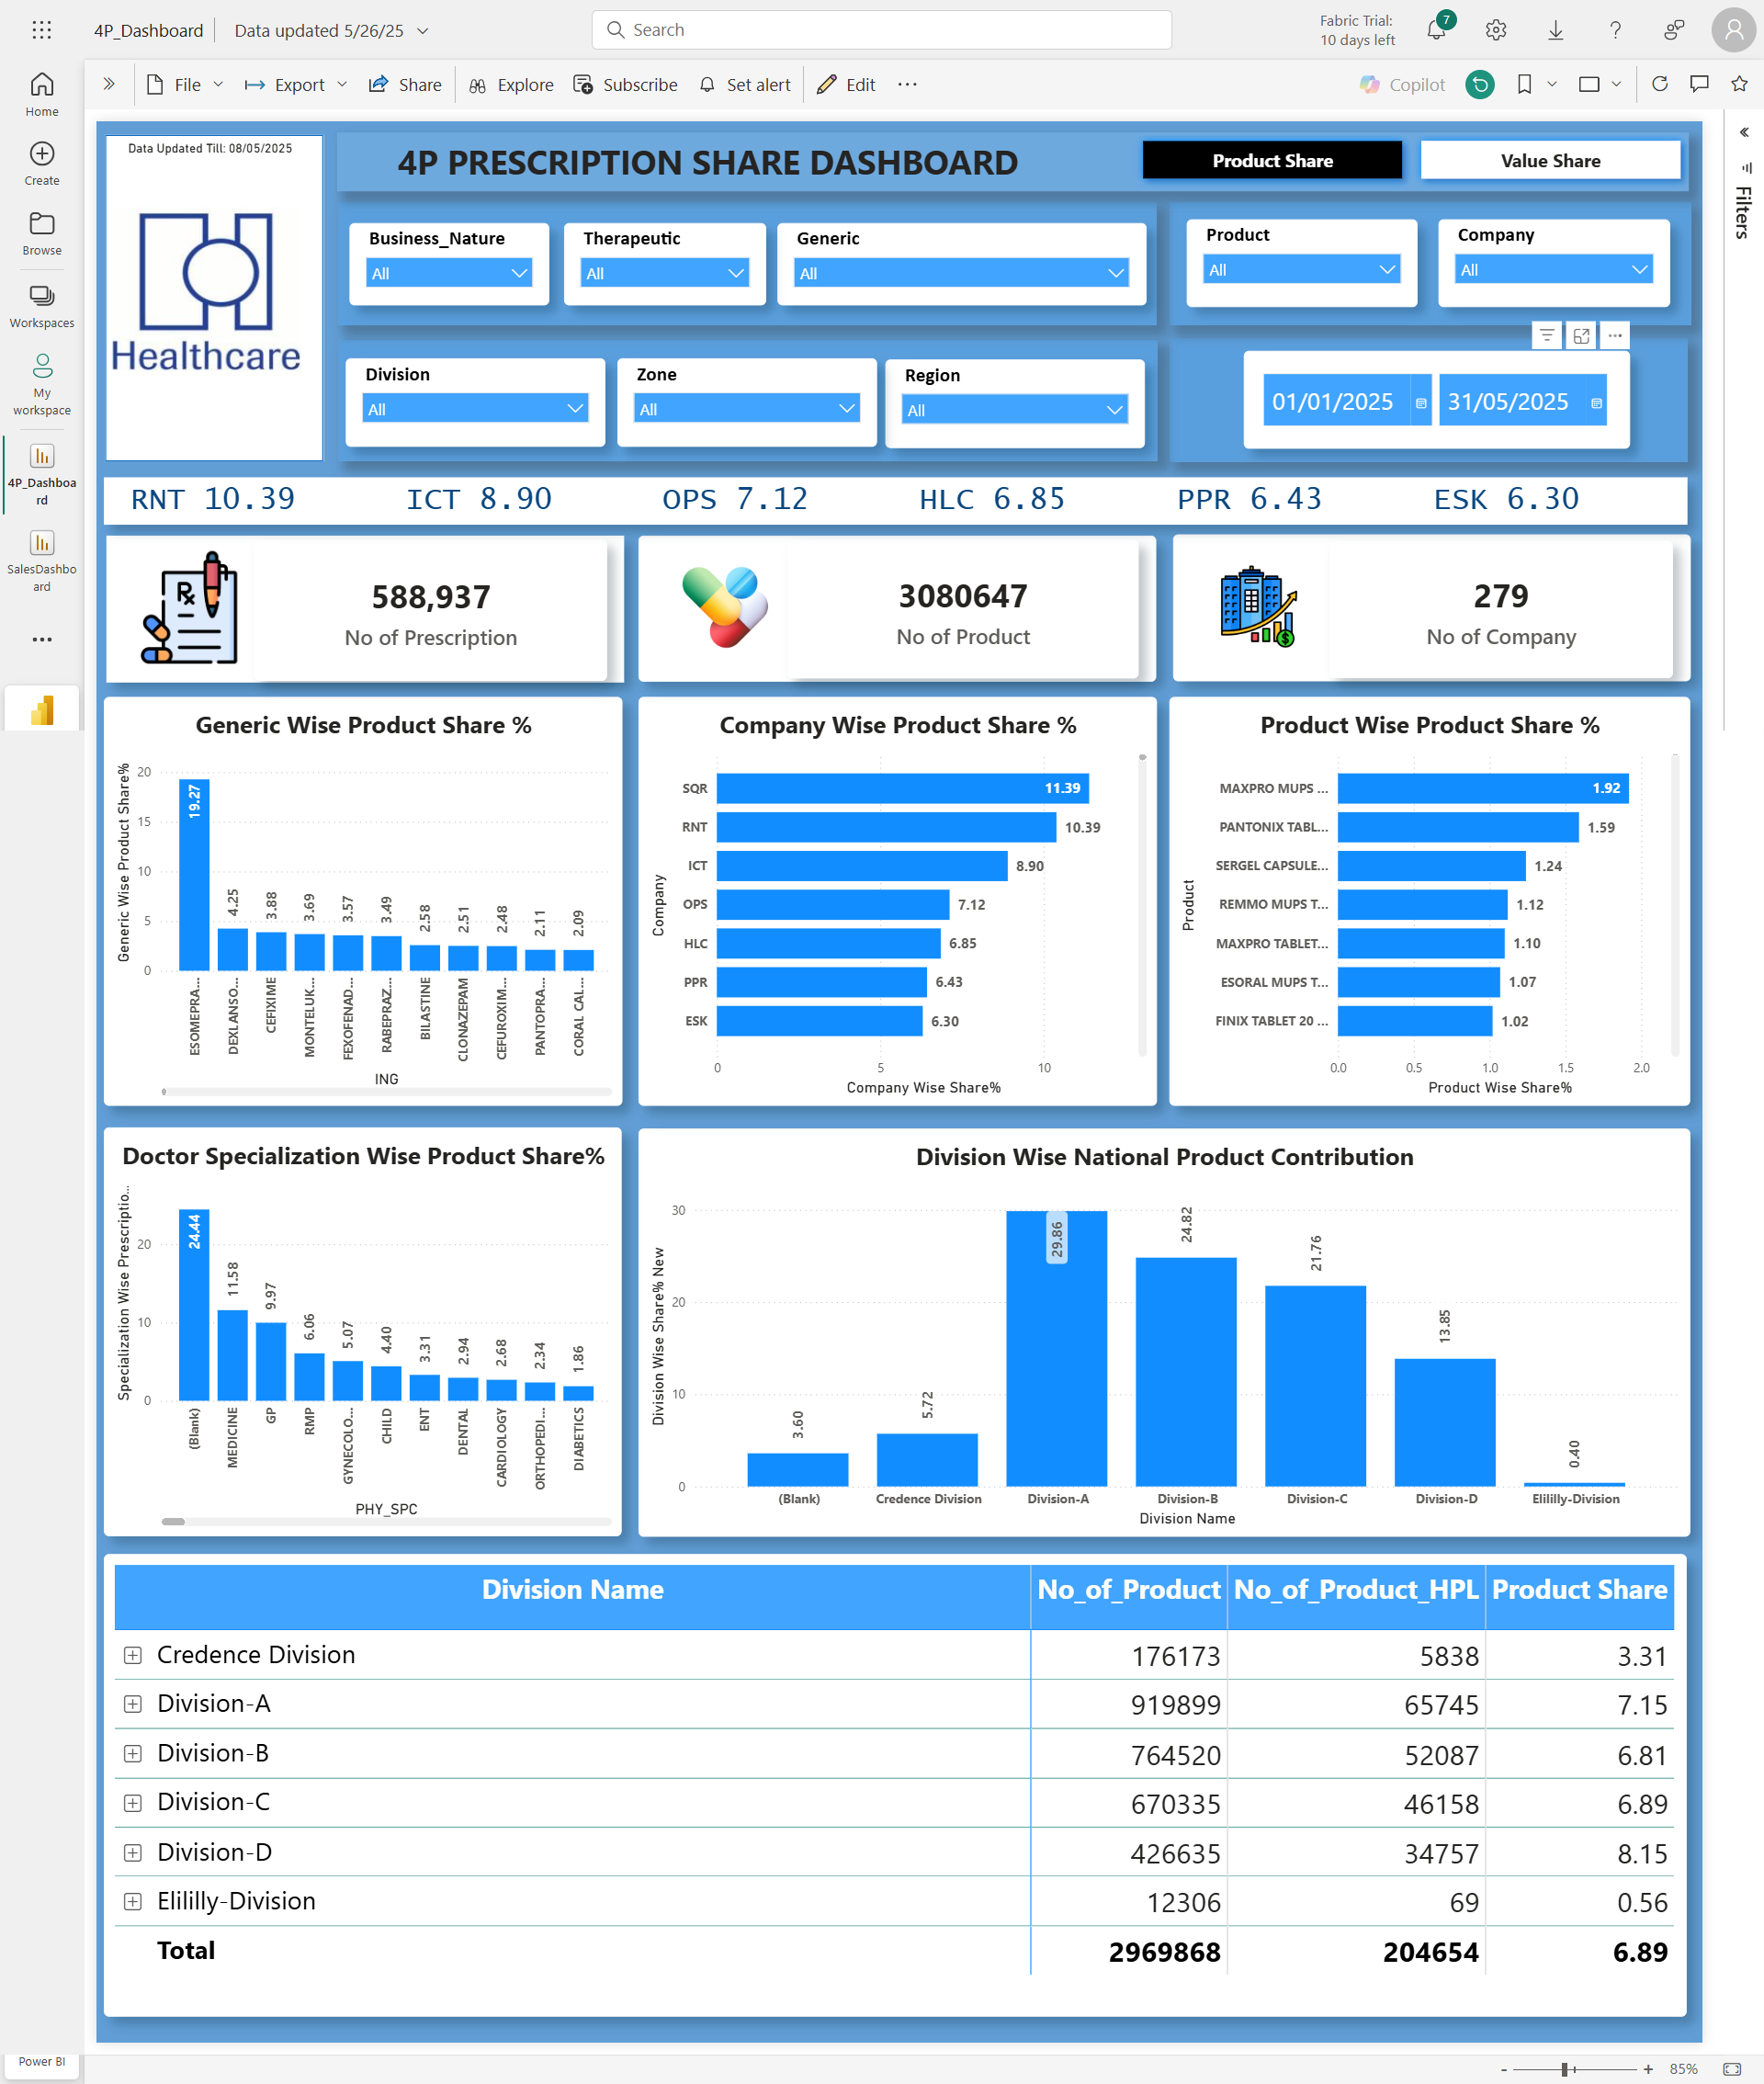

Layout of this report page (visuals, bound fields, positions):
{"tool":"powerbi","page":{"name":"Product Share","canvas":[1530,1830],"ordinal":0},"visuals":[{"type":"shape","box":[7.9,12.7,207.8,311],"z":0,"group":"g2"},{"type":"shape","box":[230.3,76.8,779.8,117.6],"z":0},{"type":"shape","box":[1025.4,393.8,493.6,140.2],"z":0,"group":"g3"},{"type":"shape","box":[9.3,394.5,493.6,140.2],"z":0,"group":"g1"},{"type":"shape","box":[516,394.5,493.1,139.4],"z":0,"group":"g4"},{"type":"card","title":"Sales","fields":{"Values":["PBI_4P_T.No_of_Prescription"]},"box":[149.5,398.2,336.5,134.6],"z":1000,"group":"g1"},{"type":"card","title":"Sales","fields":{"Values":["PBI_4P_T.No_of_Product"]},"box":[658.1,398.2,334.7,132.7],"z":1000,"group":"g4"},{"type":"card","title":"Sales","fields":{"Values":["Count(PBI_4P_T.VC2_1)"]},"box":[1174.3,399.7,327.2,130.9],"z":1000,"group":"g3"},{"type":"columnChart","title":"Generic Wise Product Share %","fields":{"Category":["PBI_4P_T.ING"],"Y":["PBI_4P_T.Generic Wise Product Share%"]},"box":[7.5,548.2,494.1,389.7],"z":1000},{"type":"group","id":"g1","title":"Header 1","box":[9.3,394.5,493.6,140.2],"z":2000},{"type":"group","id":"g2","title":"Side Bar","box":[7.9,12.7,207.8,311],"z":3000},{"type":"textbox","box":[229.3,11.2,1288.3,55.9],"z":4000},{"type":"shape","box":[230.1,207.8,780.6,115.8],"z":5000},{"type":"image","box":[9.3,76.7,190.7,172],"z":6000},{"type":"image","box":[19,404.6,138,117.4],"z":7000},{"type":"shape","box":[1022.1,206.3,494.3,117.6],"z":8000},{"type":"lineStackedColumnComboChart","fields":{"Category":["PBI_4P_T.Division Name","PBI_Market_master_t.ZoneName","PBI_Market_master_t.RegeionName","PBI_Market_master_t.MarketName"],"Y":["PBI_4P_T.Division Wise Share% New"]},"box":[516,959.1,1002.1,388.9],"z":9000},{"type":"clusteredBarChart","title":"Company Wise Product Share %","fields":{"Category":["PBI_4P_T.VC2_1"],"Y":["PBI_4P_T.Company Wise Share%"]},"box":[516.5,548.2,494.1,389.7],"z":10000},{"type":"slicer","fields":{"Values":["PBI_4P_T.ING"]},"box":[648.8,97.2,351.5,78.5],"z":11000},{"type":"shape","box":[1022.1,76.8,496.7,117.6],"z":12000},{"type":"slicer","fields":{"Values":["PBI_Market_master_t.RegeionName"]},"box":[752,226.9,247.5,84.1],"z":13000},{"type":"slicer","fields":{"Values":["PBI_4P_T.Division Name"]},"box":[238,225.3,247.5,84.1],"z":14000},{"type":"slicer","fields":{"Values":["PBI_Market_master_t.ZoneName"]},"box":[496.6,225.3,247.5,84.1],"z":15000},{"type":"slicer","fields":{"Values":["PBI_4P_T.Business_Nature"]},"box":[241.2,97.2,190.7,78.5],"z":16000},{"type":"slicer","fields":{"Values":["PBI_4P_T.VC2_1"]},"box":[1278.9,93.6,220.7,84],"z":17000},{"type":"group","id":"g3","title":"Header 1","box":[1025.4,393.8,493.6,140.2],"z":18000},{"type":"group","id":"g4","title":"Header 1","box":[516,394.5,493.1,139.4],"z":19000},{"type":"image","box":[1053.5,417.3,109.5,90.4],"z":20000},{"type":"image","box":[549,417.3,100,92],"z":21000},{"type":"slicer","fields":{"Values":["PBI_4P_T.NAME1"]},"box":[1038.9,93.6,220,84],"z":22000},{"type":"barChart","title":"Product Wise Product Share %","fields":{"Category":["PBI_4P_T.NAME1"],"Y":["PBI_4P_T.Product Wise Share%"]},"box":[1021.7,548.2,495.9,389.7],"z":23000},{"type":"columnChart","title":"Doctor Specialization Wise Product Share%","fields":{"Category":["PBI_4P_T.PHY_SPC"],"Y":["PBI_4P_T.Specialization Wise Prescription Share%"]},"box":[6.8,958.9,493.7,389.3],"z":24000},{"type":"pivotTable","fields":{"Rows":["PBI_4P_T.Division Name","PBI_Market_master_t.ZoneName","PBI_Market_master_t.RegeionName","PBI_Market_master_t.MarketName"],"Values":["PBI_4P_T.No_of_Product","PBI_4P_T.No_of_Product_HPL","PBI_4P_T.Product Share"]},"box":[7.1,1364.4,1508.1,440.7],"z":25000},{"type":"pageNavigator","box":[978.3,0,551.7,74.7],"z":26000},{"type":"slicer","fields":{"Values":["CalendarTable.Date"]},"box":[1093.7,218.7,368.3,93.5],"z":27000},{"type":"slicer","fields":{"Values":["PBI_4P_T.ING"]},"box":[445,97.2,192.6,78.5],"z":28000},{"type":"card","fields":{"Values":["PBI_4P_T.Data_updated_till"]},"box":[0,11.9,216.9,30.5],"z":29000},{"type":"ScrollingTextVisual1448795304508","fields":{"Category":["PBI_4P_T.VC2_1"],"Measure Absolute":["PBI_4P_T.Company Wise Share%"]},"box":[6.9,339.5,1509.1,45.4],"z":30000}]}

Visuals, with their boxes on the page's 1530x1830 design canvas (x1, y1, x2, y2). These are canvas units, not pixel positions in the 1764x2084 screenshot, which may show the page scaled, cropped or inside an application window:
shape: rect(8, 13, 216, 324)
shape: rect(230, 77, 1010, 194)
shape: rect(1025, 394, 1519, 534)
shape: rect(9, 394, 503, 535)
shape: rect(516, 394, 1009, 534)
"Sales" card: rect(150, 398, 486, 533)
"Sales" card: rect(658, 398, 993, 531)
"Sales" card: rect(1174, 400, 1502, 531)
"Generic Wise Product Share %" columnChart: rect(8, 548, 502, 938)
"Header 1" group: rect(9, 394, 503, 535)
"Side Bar" group: rect(8, 13, 216, 324)
textbox: rect(229, 11, 1518, 67)
shape: rect(230, 208, 1011, 324)
image: rect(9, 77, 200, 249)
image: rect(19, 405, 157, 522)
shape: rect(1022, 206, 1516, 324)
lineStackedColumnComboChart - PBI_4P_T.Division Name x PBI_Market_master_t.ZoneName: rect(516, 959, 1518, 1348)
"Company Wise Product Share %" clusteredBarChart: rect(516, 548, 1011, 938)
slicer - PBI_4P_T.ING: rect(649, 97, 1000, 176)
shape: rect(1022, 77, 1519, 194)
slicer - PBI_Market_master_t.RegeionName: rect(752, 227, 1000, 311)
slicer - PBI_4P_T.Division Name: rect(238, 225, 486, 309)
slicer - PBI_Market_master_t.ZoneName: rect(497, 225, 744, 309)
slicer - PBI_4P_T.Business_Nature: rect(241, 97, 432, 176)
slicer - PBI_4P_T.VC2_1: rect(1279, 94, 1500, 178)
"Header 1" group: rect(1025, 394, 1519, 534)
"Header 1" group: rect(516, 394, 1009, 534)
image: rect(1054, 417, 1163, 508)
image: rect(549, 417, 649, 509)
slicer - PBI_4P_T.NAME1: rect(1039, 94, 1259, 178)
"Product Wise Product Share %" barChart: rect(1022, 548, 1518, 938)
"Doctor Specialization Wise Product Share%" columnChart: rect(7, 959, 500, 1348)
pivotTable - PBI_4P_T.Division Name x PBI_Market_master_t.ZoneName: rect(7, 1364, 1515, 1805)
pageNavigator: rect(978, 0, 1530, 75)
slicer - CalendarTable.Date: rect(1094, 219, 1462, 312)
slicer - PBI_4P_T.ING: rect(445, 97, 638, 176)
card - PBI_4P_T.Data_updated_till: rect(0, 12, 217, 42)
ScrollingTextVisual1448795304508 - PBI_4P_T.VC2_1 x PBI_4P_T.Company Wise Share%: rect(7, 340, 1516, 385)
